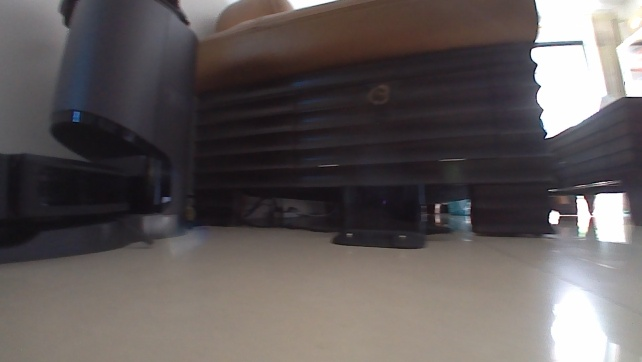charger: (326, 180, 428, 253)
sofa1: (185, 0, 560, 237)
